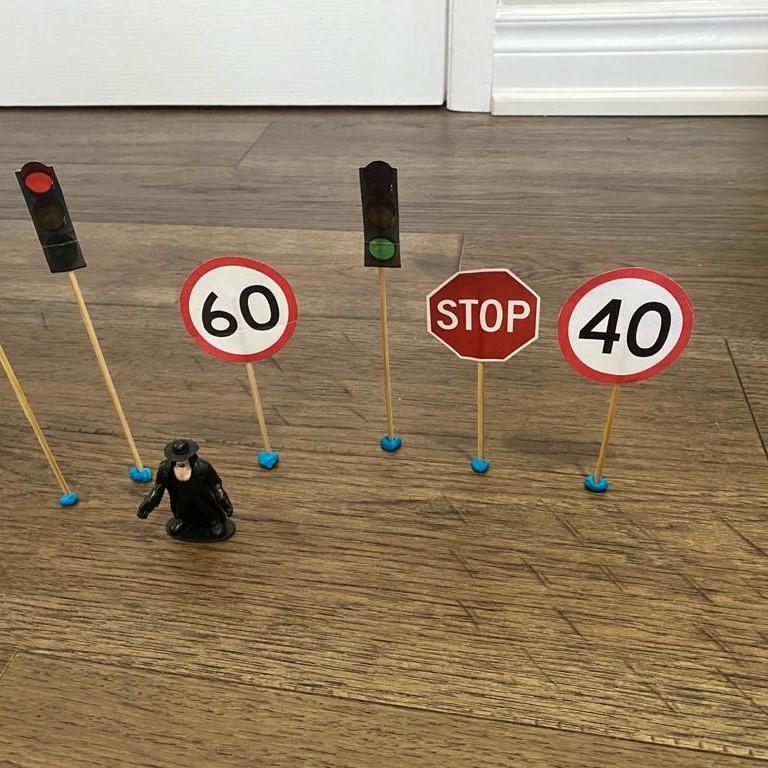Green Traffic Light: (352, 155, 405, 274)
Person: (130, 435, 239, 548)
Red Traffic Light: (13, 159, 92, 277)
Speed Limit 40: (553, 265, 696, 388)
Speed Limit 60: (170, 253, 306, 363)
Stop Sign: (423, 259, 545, 366)
